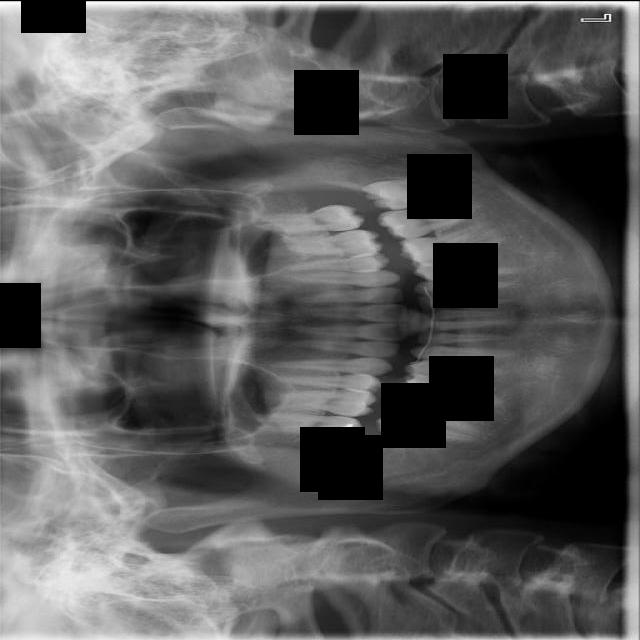52: (314, 414, 362, 441)
73: (614, 8, 622, 20)
BioHorizons Implant: (249, 202, 364, 236)
Biomet 3i Implant: (360, 165, 458, 216)
Blue Sky Bio Implant: (376, 193, 482, 244)
Caries: (254, 408, 363, 443)
Implant: (373, 400, 484, 443)
